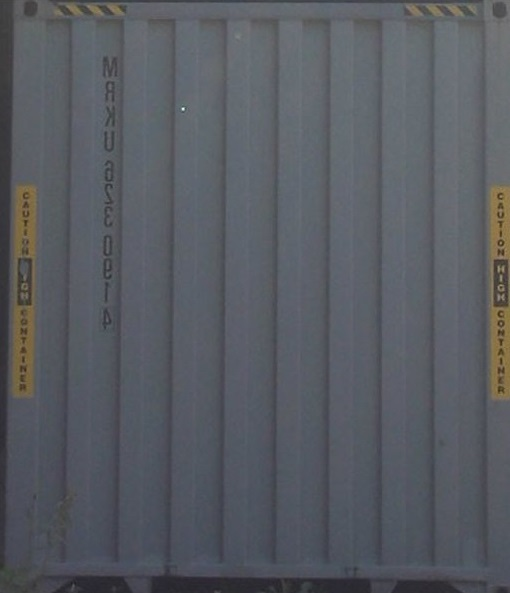container_no_door: (9, 2, 506, 593)
